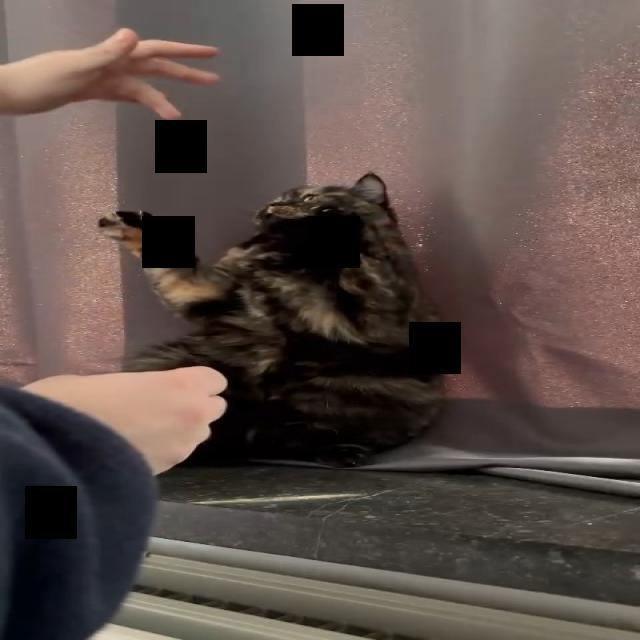authorized: (96, 170, 453, 468)
